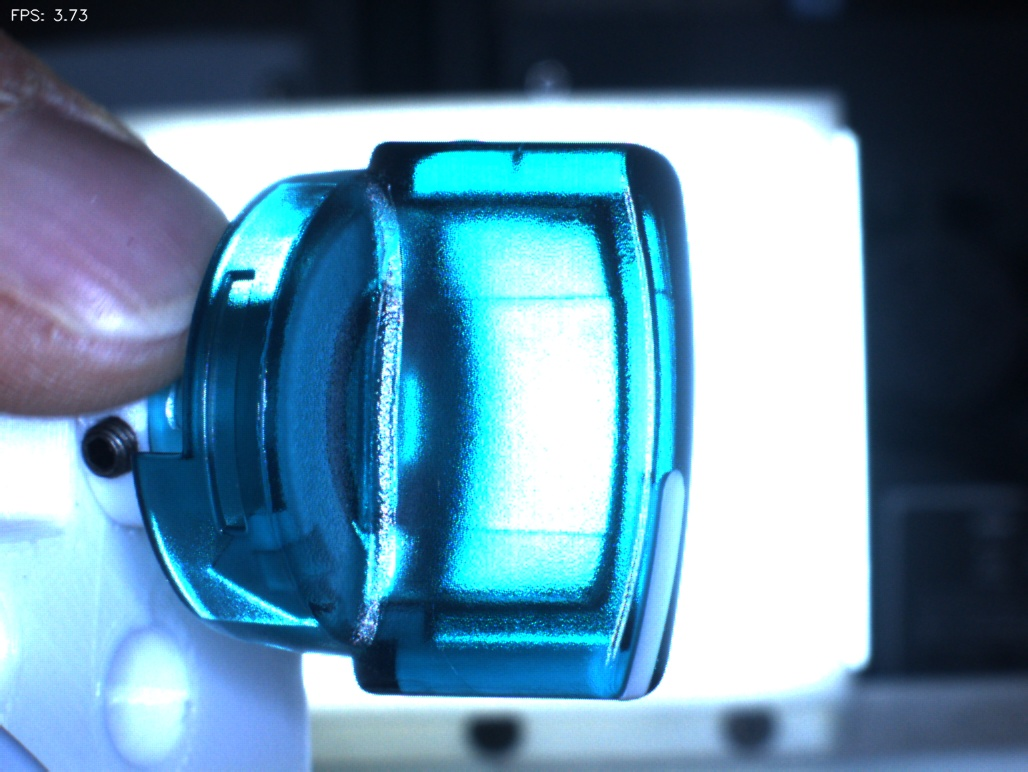Bulle: (474, 120, 557, 196)
